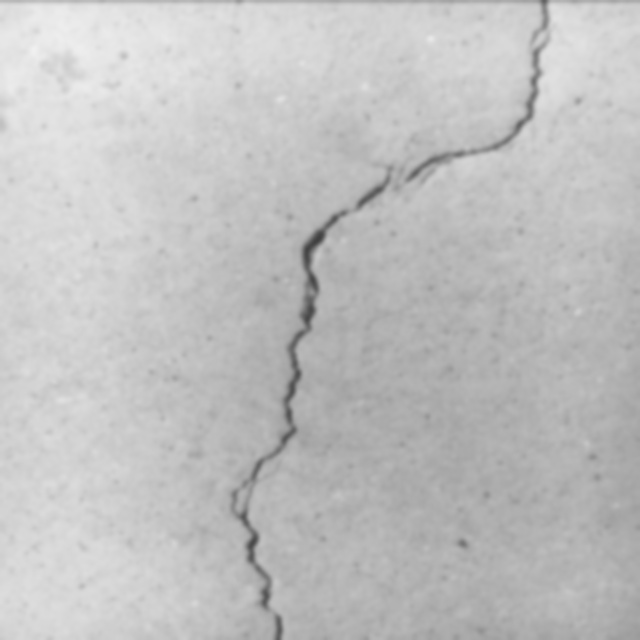SurfaceCrack: (186, 2, 587, 640)
